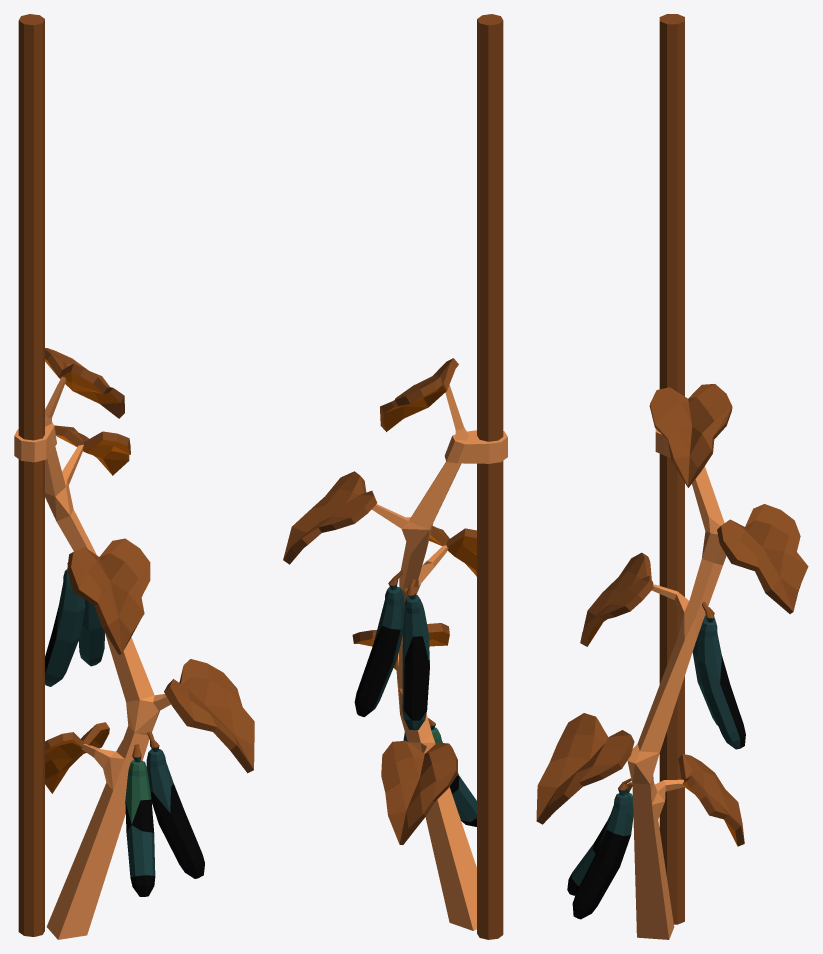
Rendered from Cucumber_Dead_M.fbx.
3 renders of one model, left to right at view 1: azimuth 30°, elevation 25°; view 2: azimuth 150°, elevation 25°; view 3: azimuth 270°, elevation 25°, orthographic.
Visible parts, largest first — view 1: Cucumber_Dead_M, Cucumber_Young_Dead_01, Cucumber_Young_Dead_02, Cucumber_Young_Dead_04, Cucumber_Young_Dead_03; view 2: Cucumber_Dead_M, Cucumber_Young_Dead_04, Cucumber_Young_Dead_03, Cucumber_Young_Dead_02; view 3: Cucumber_Dead_M, Cucumber_Young_Dead_01, Cucumber_Young_Dead_03, Cucumber_Young_Dead_02.
Part boxes in pixels (left/top/right/bottom): Cucumber_Dead_M: left=14, top=14, right=254, bottom=939; Cucumber_Young_Dead_01: left=146, top=746, right=204, bottom=878; Cucumber_Young_Dead_02: left=125, top=756, right=155, bottom=896; Cucumber_Young_Dead_04: left=45, top=563, right=85, bottom=686; Cucumber_Young_Dead_03: left=78, top=600, right=104, bottom=666; Cucumber_Dead_M: left=283, top=14, right=507, bottom=939; Cucumber_Young_Dead_04: left=402, top=593, right=429, bottom=730; Cucumber_Young_Dead_03: left=354, top=582, right=404, bottom=716; Cucumber_Young_Dead_02: left=430, top=724, right=476, bottom=826; Cucumber_Dead_M: left=536, top=14, right=808, bottom=939; Cucumber_Young_Dead_01: left=572, top=788, right=633, bottom=919; Cucumber_Young_Dead_03: left=697, top=617, right=745, bottom=749; Cucumber_Young_Dead_02: left=567, top=790, right=633, bottom=895.
Size of the model in its own units: 10.26 by 48.97 by 13.41.
